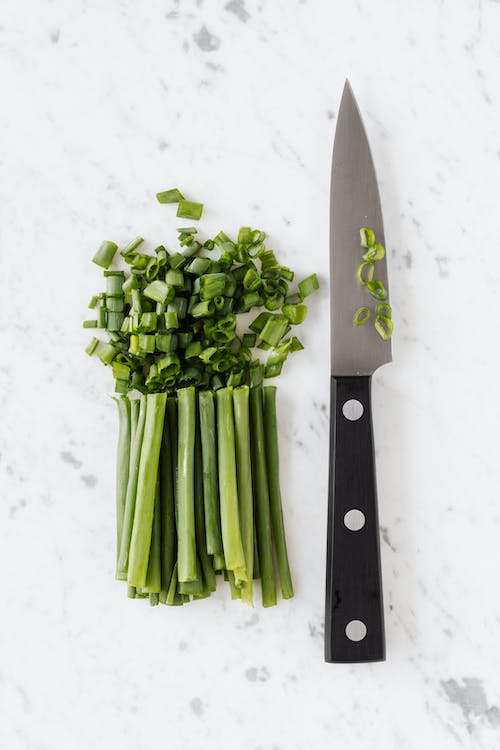knife: (322, 73, 394, 666)
